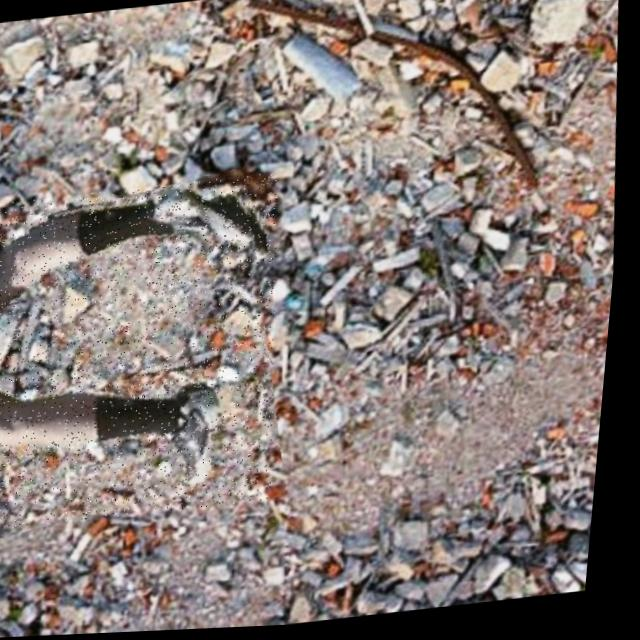Person in Rubble: (0, 172, 303, 532)
